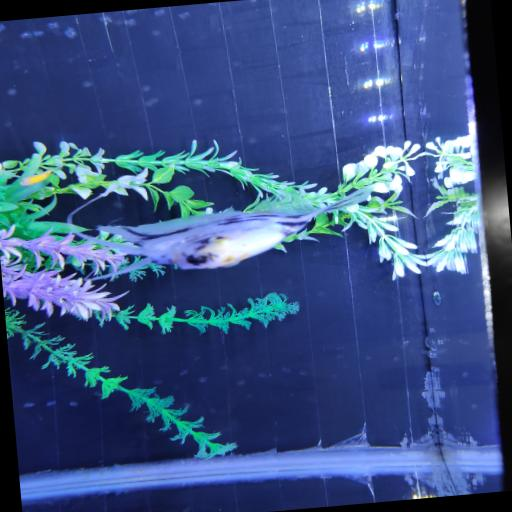Fish: (76, 185, 372, 279), (20, 169, 51, 185)
